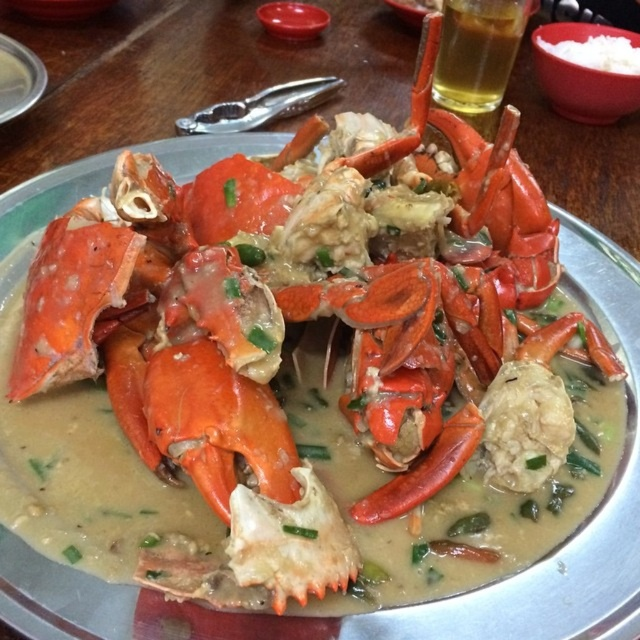Crab: (4, 12, 629, 616)
